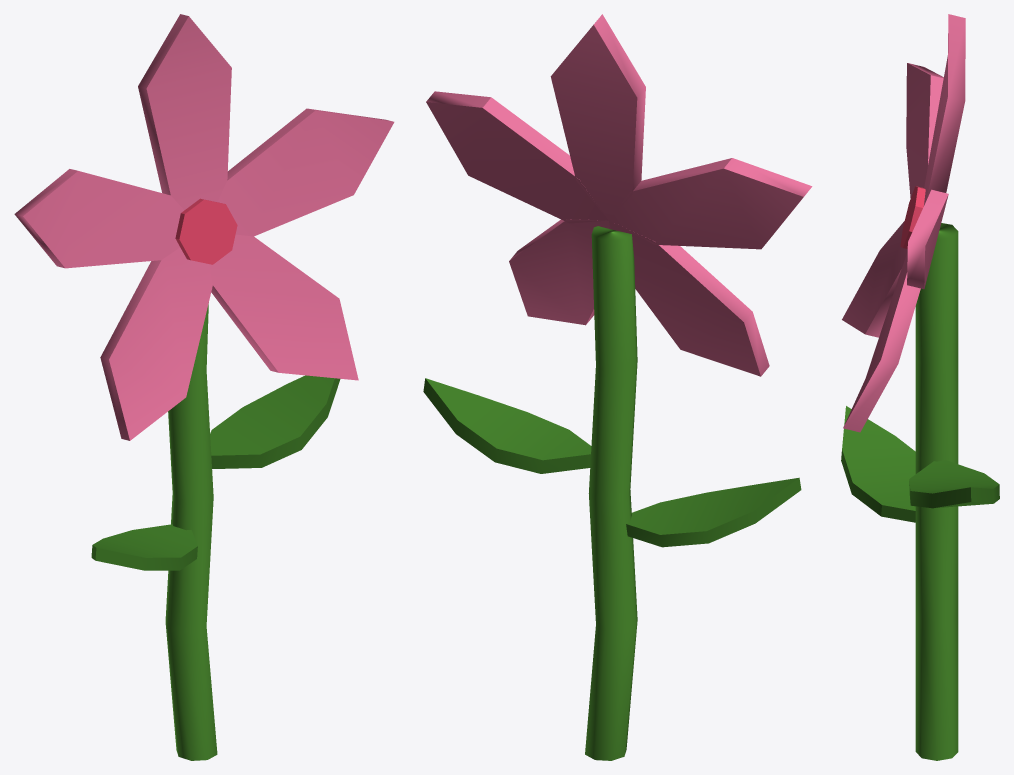
File: Flower_Pink_3.fbx
3 renders of one model, left to right at view 1: azimuth 30°, elevation 25°; view 2: azimuth 150°, elevation 25°; view 3: azimuth 270°, elevation 25°, orthographic.
Parts seen in each view (by area): view 1: Cube.083, Cylinder.613, Plane.190, Plane.191, Cylinder.612; view 2: Cube.083, Cylinder.613, Plane.190, Plane.191; view 3: Cylinder.613, Cube.083, Plane.191, Plane.190, Cylinder.612.
Boxes of the visible parts, box(x1,y1,x2,y2) form: Cube.083: box(14, 14, 394, 440); Cylinder.613: box(165, 304, 217, 760); Plane.190: box(210, 375, 340, 468); Plane.191: box(91, 524, 197, 570); Cylinder.612: box(175, 198, 237, 264); Cube.083: box(426, 14, 812, 376); Cylinder.613: box(585, 226, 637, 760); Plane.190: box(423, 378, 591, 473); Plane.191: box(626, 477, 801, 547); Cylinder.613: box(915, 223, 958, 760); Cube.083: box(842, 14, 965, 432); Plane.191: box(841, 406, 915, 522); Plane.190: box(909, 460, 999, 508); Cylinder.612: box(900, 186, 925, 248).
Bounding box in the file's own units: 71.56 × 135 × 26.3.
